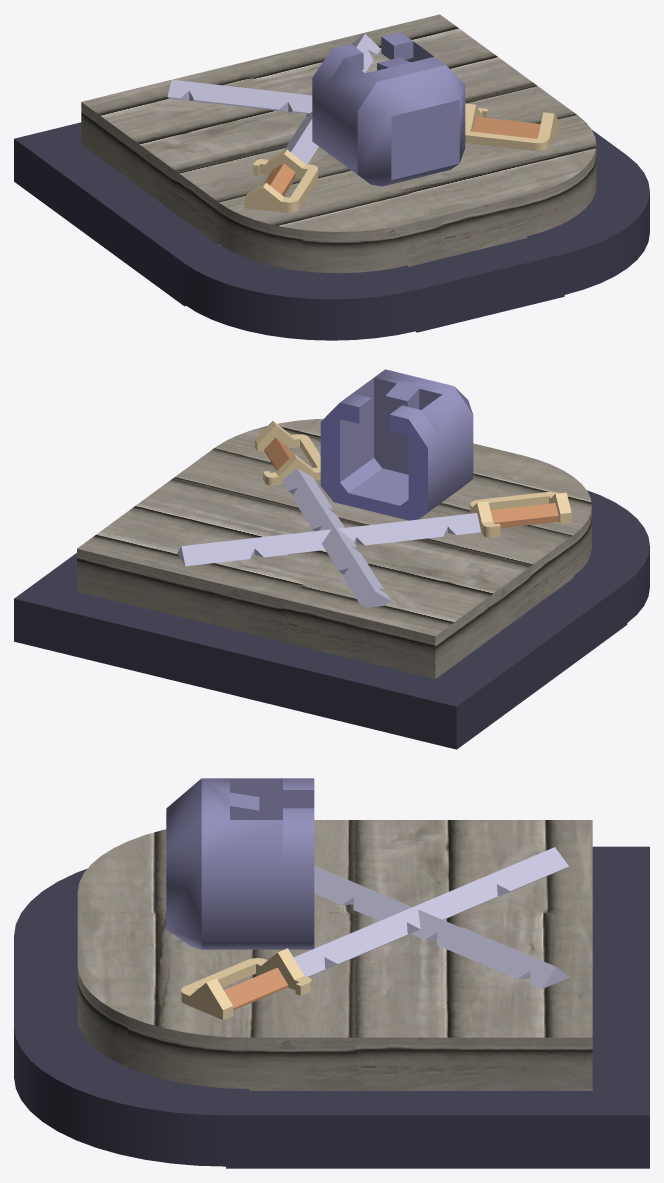
The model's file is swordmount.fbx.
3 renders of one model, top to bottom at view 1: azimuth 30°, elevation 25°; view 2: azimuth 150°, elevation 25°; view 3: azimuth 270°, elevation 25°, orthographic. The views are drawn at different scales.
Parts seen in each view (by area): view 1: block (×12), arc_quarter (×4), headwear_helmet, hilt_handle_guard (×2), blade_middle_broken (×4); view 2: block (×11), headwear_helmet, arc_quarter (×3), blade_middle_broken (×6), hilt_handle_guard (×2); view 3: block (×13), arc_quarter (×4), headwear_helmet, blade_middle_broken (×6), hilt_handle_guard.
Part boxes in pixels (x1,y1,x2,y2): block (×12): (14, 14, 626, 332); arc_quarter (×4): (184, 115, 649, 340); headwear_helmet: (312, 32, 465, 186); hilt_handle_guard (×2): (244, 103, 559, 212); blade_middle_broken (×4): (167, 34, 380, 163); block (×11): (14, 443, 627, 749); headwear_helmet: (320, 369, 473, 520); arc_quarter (×3): (215, 418, 649, 622); blade_middle_broken (×6): (177, 468, 480, 607); hilt_handle_guard (×2): (254, 421, 571, 537); block (×13): (14, 820, 649, 1168); arc_quarter (×4): (14, 829, 249, 1166); headwear_helmet: (166, 778, 314, 949); blade_middle_broken (×6): (293, 847, 569, 989); hilt_handle_guard: (181, 948, 311, 1019).
Bounding box in the file's own units: 10.8 × 4.36 × 10.8.
7 materials, 1 textured.
